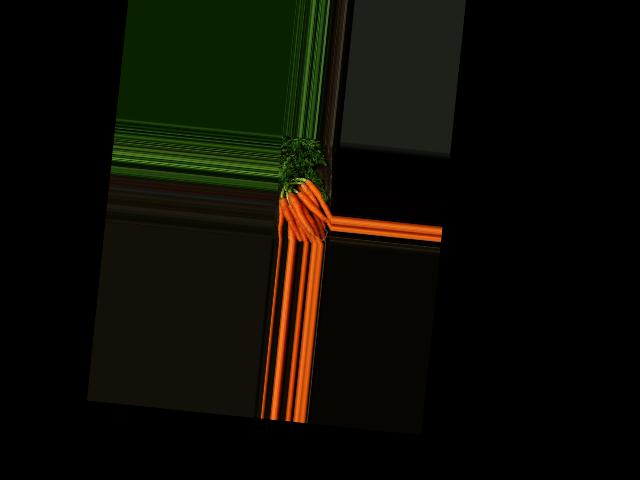carrot: (274, 195, 307, 243)
